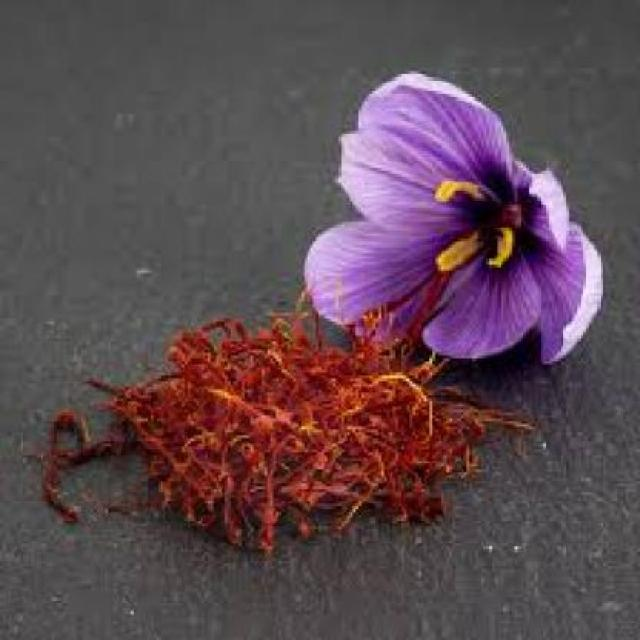Flower: (307, 59, 611, 373)
stigma: (405, 252, 473, 345)
